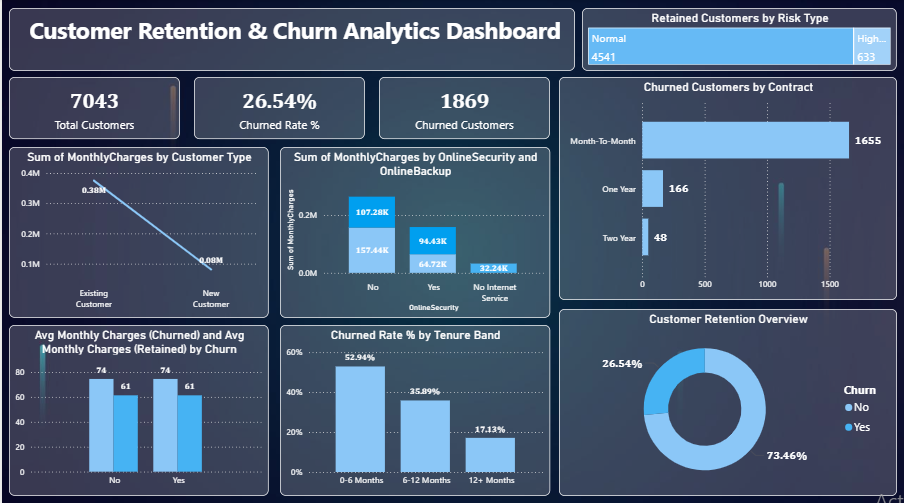

What the dashboard file says about the page in this screenshot:
{"tool":"powerbi","page":{"name":"Dashboard","canvas":[1280,720],"ordinal":0},"visuals":[{"type":"textbox","box":[9.9,12.8,802.2,89.3],"z":0},{"type":"treemap","fields":{"Values":["Calculated Measures.Retained Customers"],"Group":["telco_churn_unclean.Risk Type"]},"box":[822,12.8,446.5,89.3],"z":1000},{"type":"card","fields":{"Values":["Calculated Measures.Total Customers"]},"box":[9.9,110.6,242.4,87.9],"z":2000},{"type":"card","fields":{"Values":["Calculated Measures.Churn Rate %"]},"box":[272.1,110.6,242.4,87.9],"z":3000},{"type":"card","fields":{"Values":["Calculated Measures.Churn Customers"]},"box":[534.3,110.6,242.4,87.9],"z":4000},{"type":"donutChart","title":"Customer Retention Overview","fields":{"Y":["Calculated Measures.Total Customers"],"Category":["telco_churn_unclean.Churn"]},"box":[789.4,439.4,479.1,265],"z":5000},{"type":"barChart","fields":{"Category":["telco_churn_unclean.Contract"],"Y":["Calculated Measures.Churned Customers"]},"box":[789.4,110.6,479.1,316.1],"z":6000},{"type":"columnChart","fields":{"Y":["Calculated Measures.Churned Rate %"],"Category":["telco_churn_unclean.Tenure Band"]},"box":[394,462,382.7,242.4],"z":7000},{"type":"columnChart","fields":{"Y":["Sum(telco_churn_unclean.MonthlyCharges)"],"Category":["telco_churn_unclean.OnlineSecurity"],"Series":["telco_churn_unclean.OnlineBackup"]},"box":[394,209.8,382.7,242.4],"z":8000},{"type":"clusteredColumnChart","fields":{"Y":["Calculated Measures.Avg Monthly Charges (Churned)","Calculated Measures.Avg Monthly Charges (Retained)"],"Category":["telco_churn_unclean.Churn"]},"box":[10.1,461.9,367.9,241.9],"z":9000},{"type":"lineChart","fields":{"Y":["Sum(telco_churn_unclean.MonthlyCharges)"],"Category":["telco_churn_unclean.Customer Type"]},"box":[10.1,210,367.9,241.9],"z":10000}]}

Visuals, with their boxes in screenshot pixels (x1, y1, x2, y2), scaled from the page's 1280x720 canvas onto the 904x503 screenshot:
textbox: 7,9,574,71
treemap - Calculated Measures.Retained Customers x telco_churn_unclean.Risk Type: 581,9,896,71
card - Calculated Measures.Total Customers: 7,77,178,139
card - Calculated Measures.Churn Rate %: 192,77,363,139
card - Calculated Measures.Churn Customers: 377,77,549,139
"Customer Retention Overview" donutChart: 558,307,896,492
barChart - telco_churn_unclean.Contract x Calculated Measures.Churned Customers: 558,77,896,298
columnChart - Calculated Measures.Churned Rate % x telco_churn_unclean.Tenure Band: 278,323,549,492
columnChart - Sum(telco_churn_unclean.MonthlyCharges) x telco_churn_unclean.OnlineSecurity: 278,147,549,316
clusteredColumnChart - Calculated Measures.Avg Monthly Charges (Churned) x Calculated Measures.Avg Monthly Charges (Retained): 7,323,267,492
lineChart - Sum(telco_churn_unclean.MonthlyCharges) x telco_churn_unclean.Customer Type: 7,147,267,316
